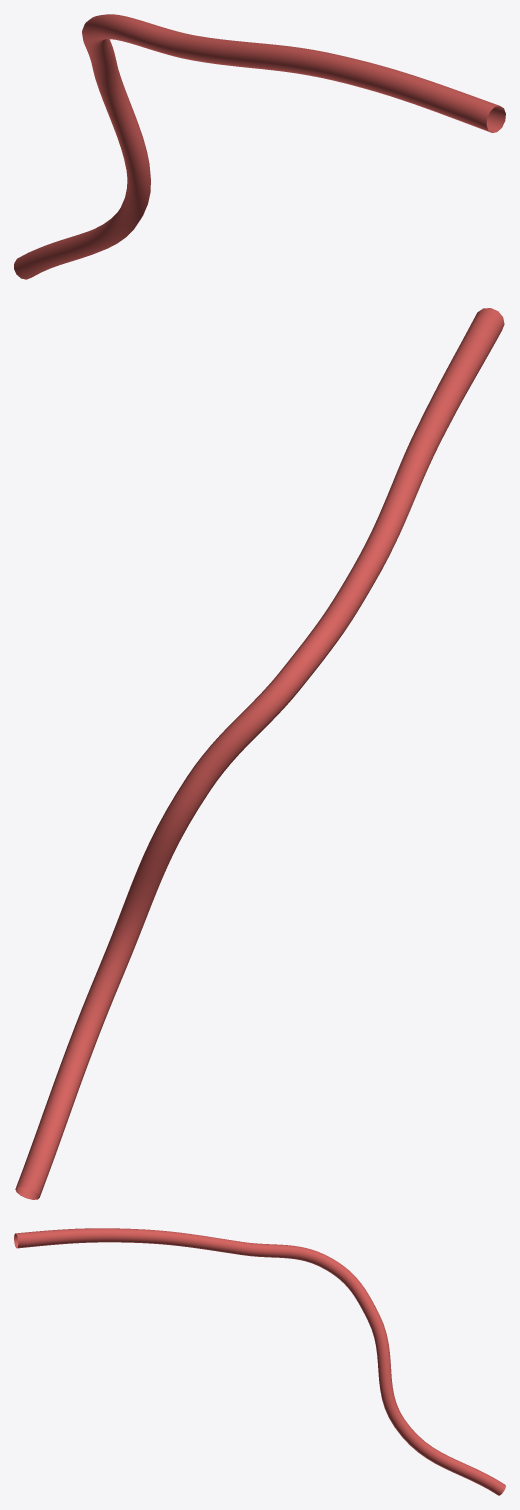
3 views of the same model, one above another, from view 1: azimuth 30°, elevation 25°; view 2: azimuth 150°, elevation 25°; view 3: azimuth 270°, elevation 25° (orthographic). The views are drawn at different scales.
Parts seen in each view (by area): view 1: 右侧骨间返动脉; view 2: 右侧骨间返动脉; view 3: 右侧骨间返动脉.
Part boxes in pixels (x1,y1,x2,y2): 右侧骨间返动脉: [14, 14, 505, 279]; 右侧骨间返动脉: [15, 308, 504, 1199]; 右侧骨间返动脉: [14, 1228, 505, 1495].
Bounding box in the file's own units: 0.0195 × 0.0704 × 0.1177.
